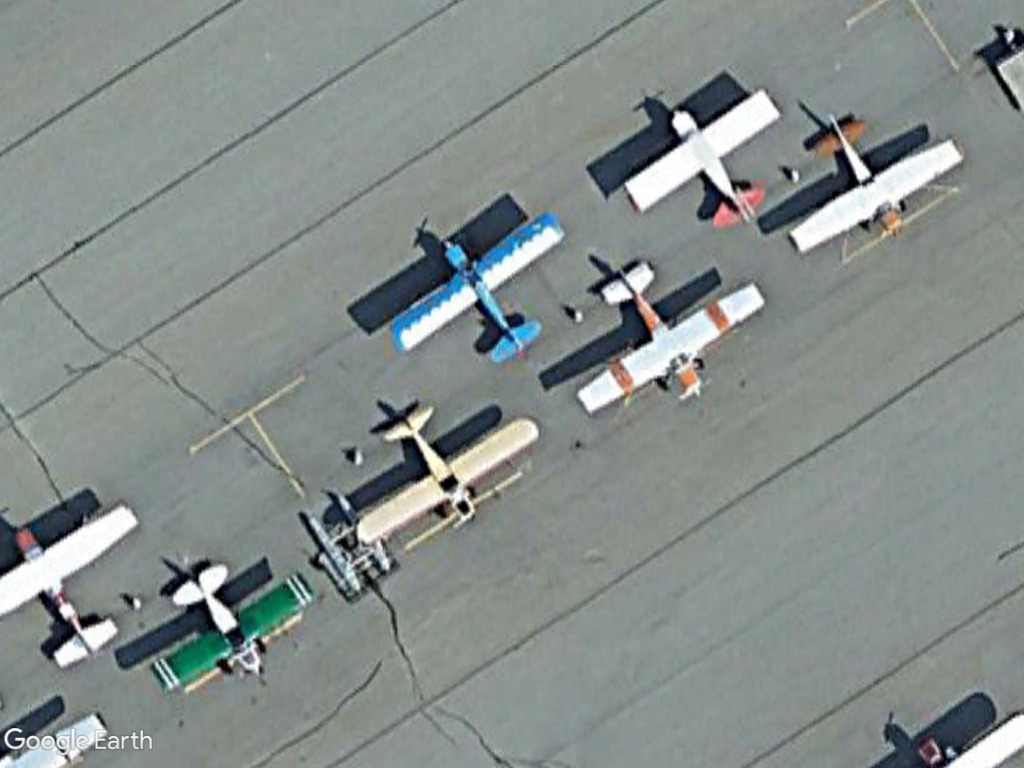trainer: (570, 253, 768, 420), (781, 101, 970, 262), (384, 210, 572, 365), (352, 404, 539, 553), (620, 83, 791, 233), (150, 554, 318, 700)
